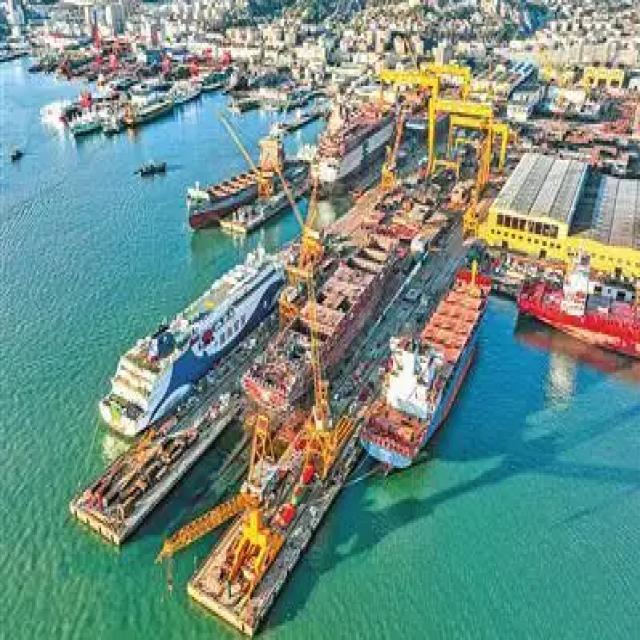cargoship: (97, 250, 284, 430), (354, 260, 490, 469), (516, 262, 640, 362), (185, 137, 288, 231), (124, 98, 176, 126), (136, 157, 170, 177), (8, 143, 27, 161)
